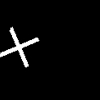single_crochet: (0, 27, 38, 66)
